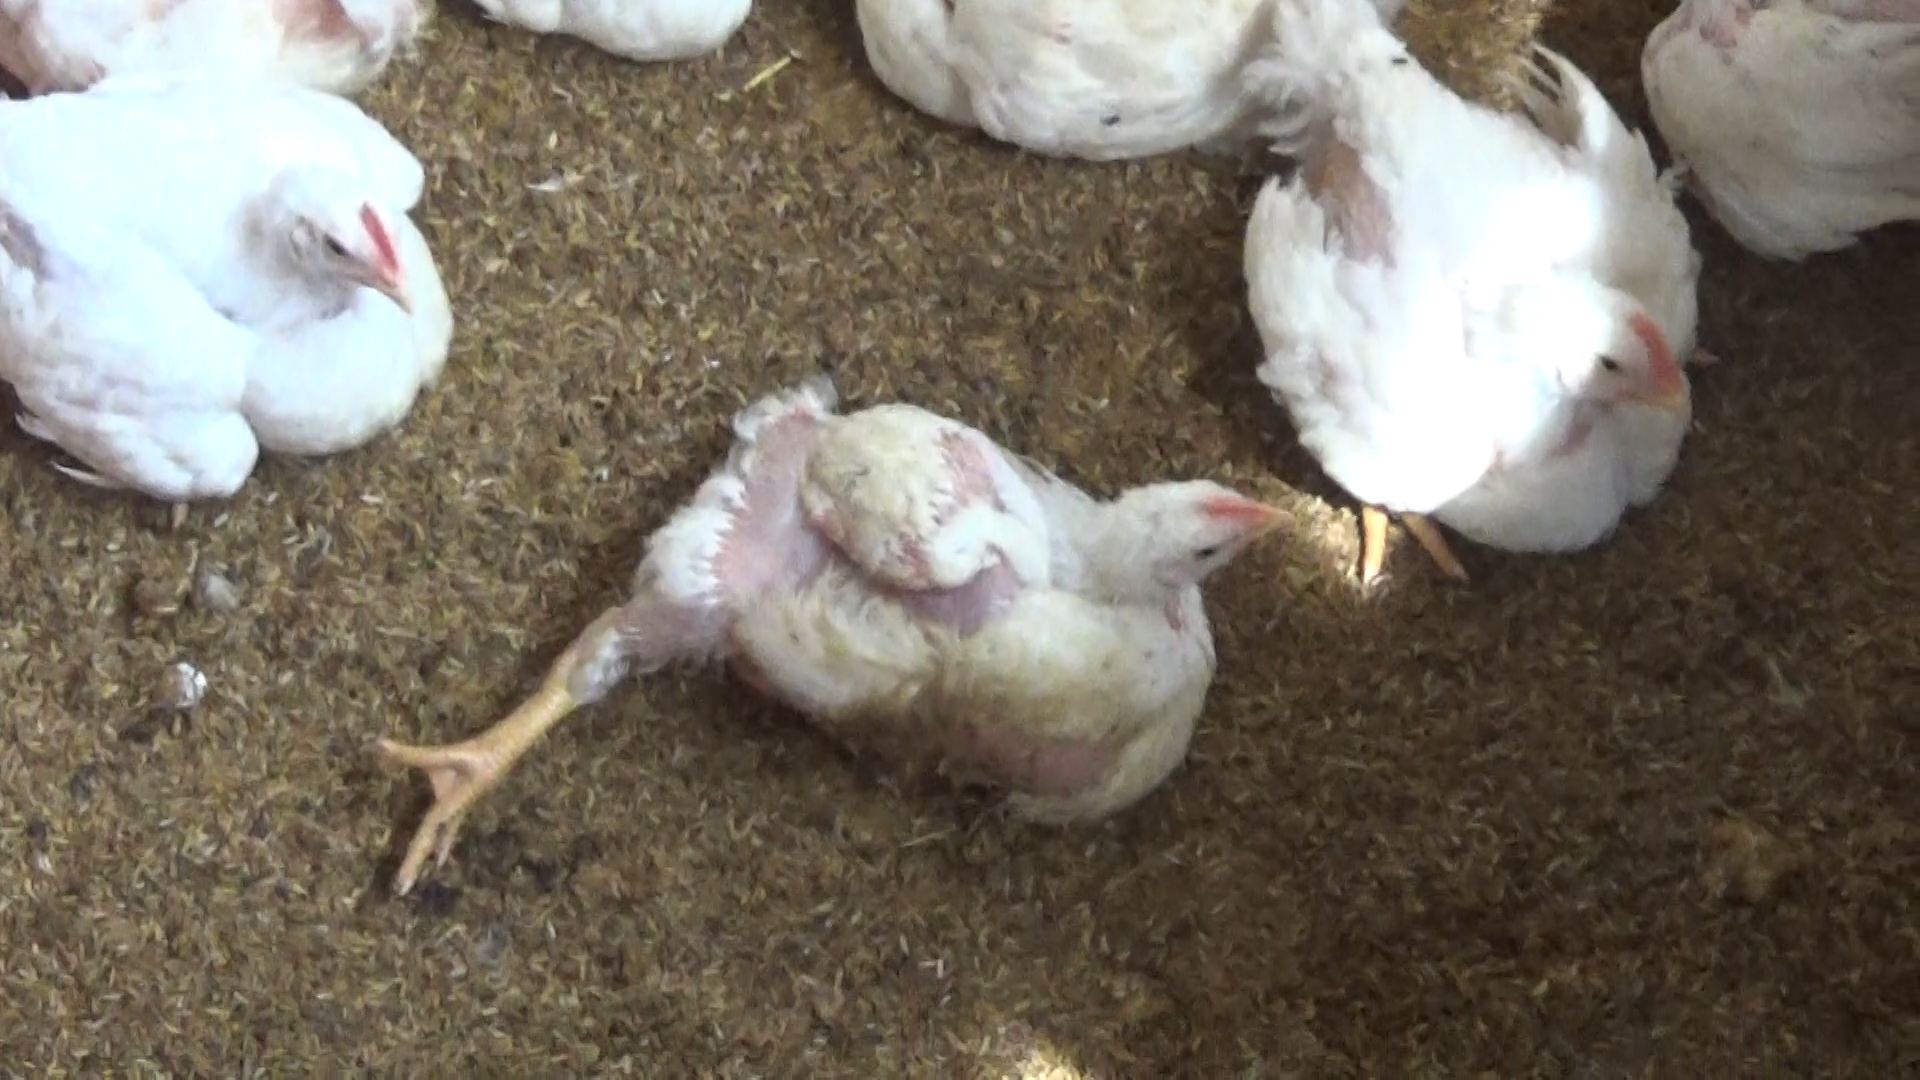Pollos: (334, 359, 1305, 907), (1222, 0, 1724, 593), (0, 69, 476, 513)
